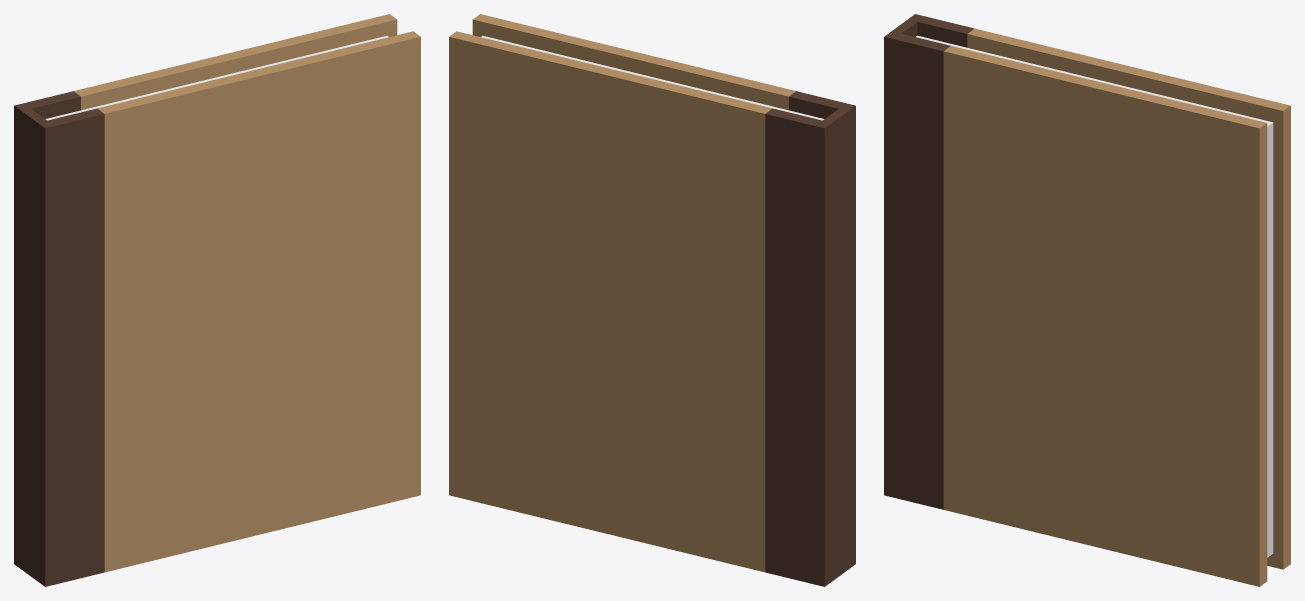
File: LogBook.fbx
3 views of the same model, side by side, from view 1: azimuth 30°, elevation 25°; view 2: azimuth 150°, elevation 25°; view 3: azimuth 330°, elevation 25° (orthographic).
Visible parts, largest first — view 1: Logbook, Paper; view 2: Logbook, Paper; view 3: Logbook, Paper.
Part boxes in pixels (bbox=[...]): Logbook: bbox=[14, 14, 420, 586]; Paper: bbox=[45, 36, 388, 120]; Logbook: bbox=[449, 14, 855, 586]; Paper: bbox=[481, 36, 824, 120]; Logbook: bbox=[884, 14, 1290, 586]; Paper: bbox=[916, 35, 1273, 557].
Bounding box in the file's own units: 79.16 × 92.35 × 11.37.
